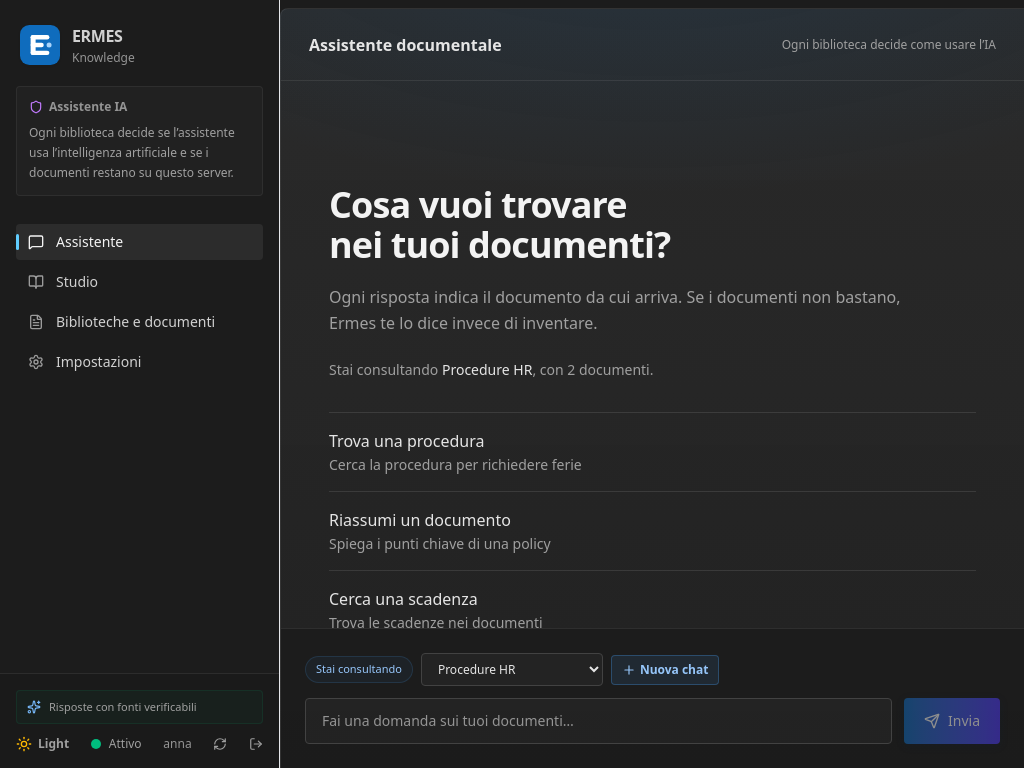
Test: App — SSE answer stream › Stop aborts the request and says so in the transcript
Expected: the text "Procedure HR" is shown, [442, 360, 532, 379]
Type "domanda lunga" into the field with placeholder "Fai una domanda sui tuoi documenti…". click: point(598, 721)
box: [305, 698, 892, 744]
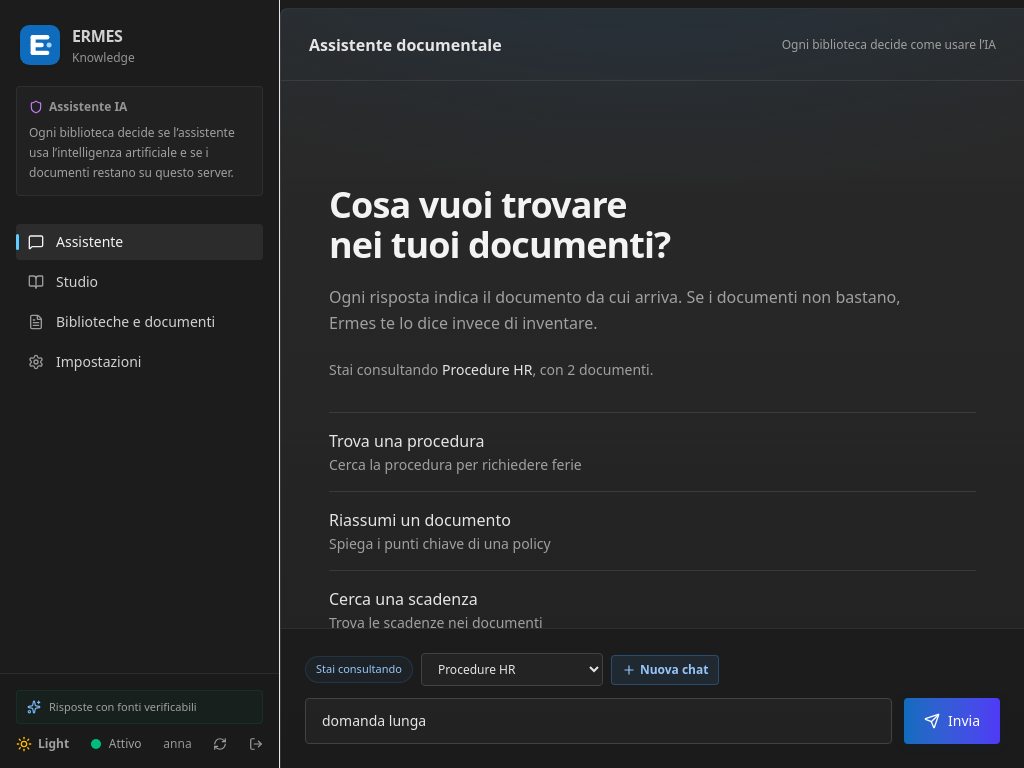
Submit the form with placeholder "fai una domanda", box [305, 698, 1000, 744]
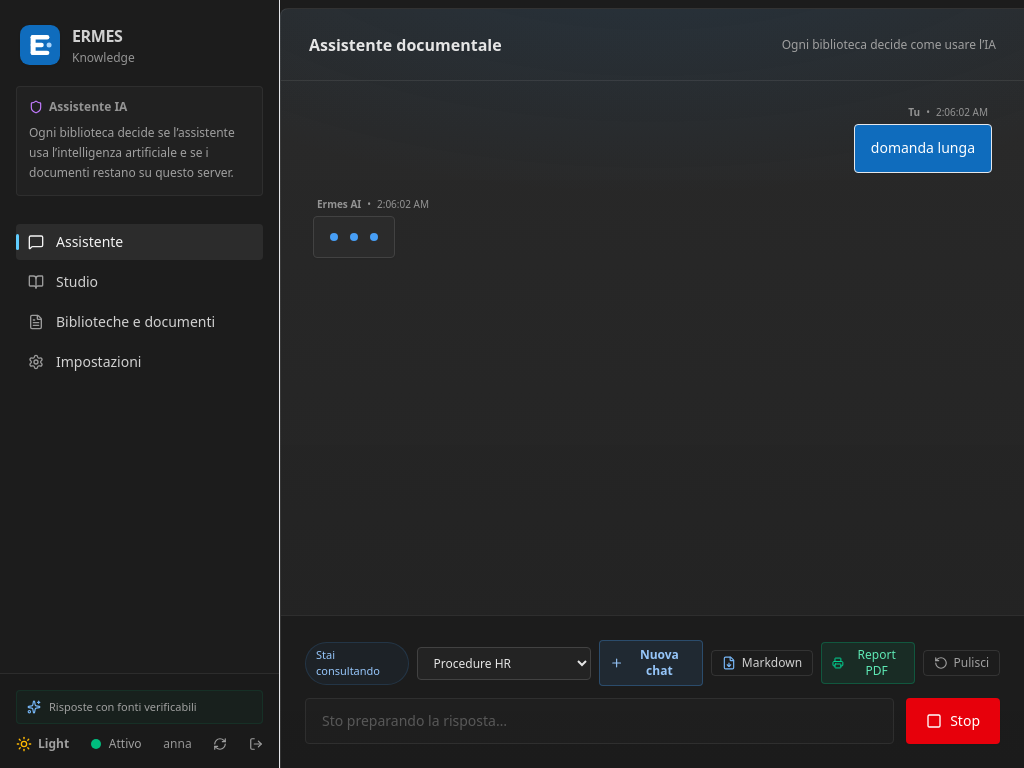
Click the button "Stop". click: point(953, 721)
box: [906, 698, 1000, 744]
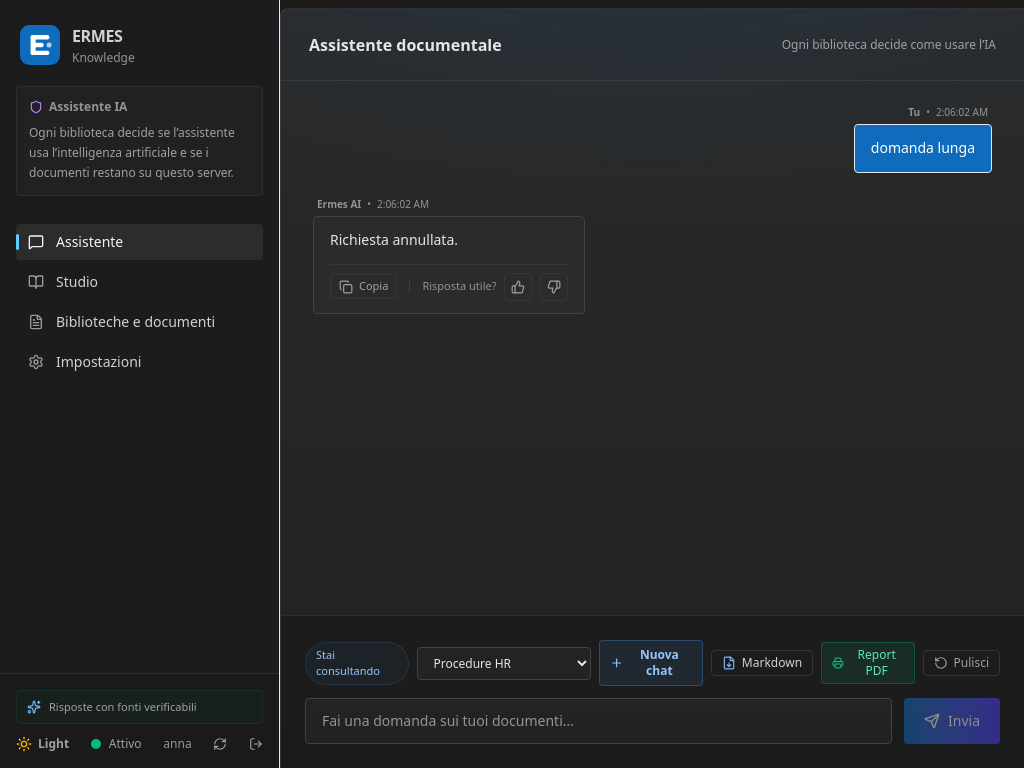
Expected: the text "Richiesta annullata." is shown, [330, 230, 458, 249]
Expected: the field with placeholder "Fai una domanda sui tuoi documenti…" is enabled, [305, 698, 892, 744]
